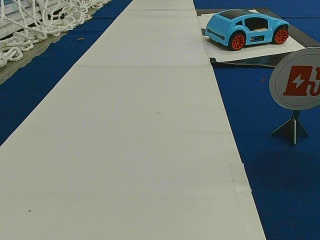battery: (270, 47, 319, 111)
car: (206, 11, 288, 49)
